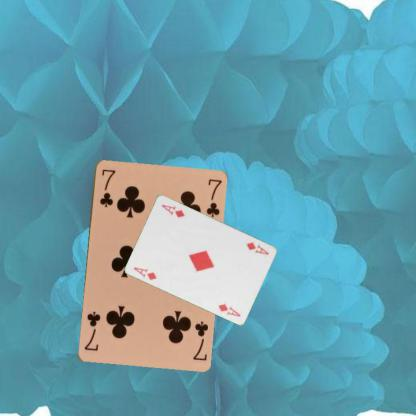7c: (190, 318, 210, 362), (97, 166, 117, 208)
Ad: (131, 264, 158, 282), (244, 239, 270, 256)
